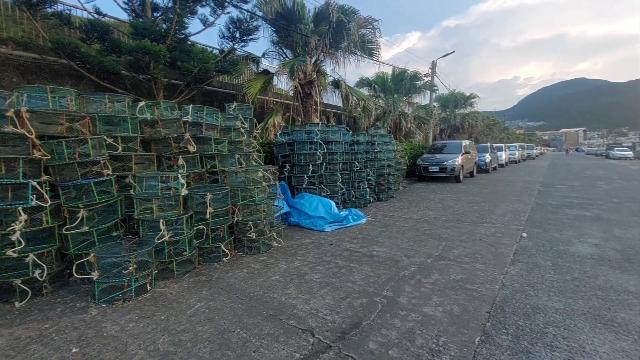pollute: (270, 179, 367, 232)
